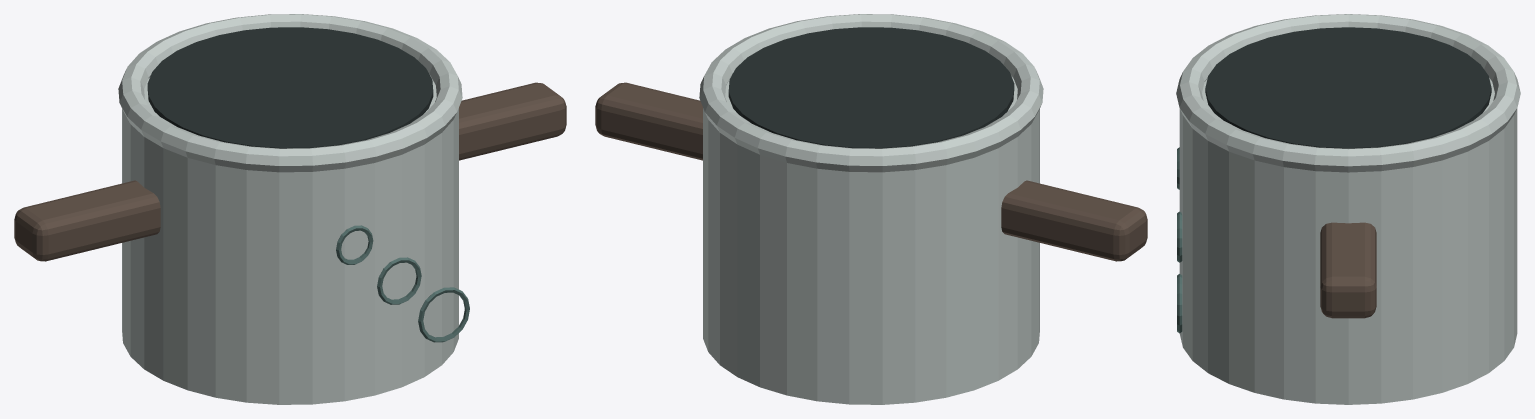
The model's file is pot-clean-v1-B_Ai-4L6.glb.
3 views of the same model, side by side, from view 1: azimuth 30°, elevation 25°; view 2: azimuth 150°, elevation 25°; view 3: azimuth 270°, elevation 25° (orthographic).
Visible parts, largest first — view 1: Pot body, Visible dark interior, Open rim, Side handle, Side handle.001, Round scratch 3, Round scratch 2, Round scratch 1; view 2: Pot body, Visible dark interior, Open rim, Side handle, Side handle.001; view 3: Pot body, Visible dark interior, Open rim, Side handle.001, Round scratch 3.
Boxes of the visible parts, x1,y1,x2,y2 form: Pot body: [122, 76, 458, 404]; Visible dark interior: [147, 27, 433, 148]; Open rim: [118, 14, 462, 172]; Side handle: [14, 180, 160, 261]; Side handle.001: [459, 82, 566, 160]; Round scratch 3: [418, 287, 469, 342]; Round scratch 2: [377, 257, 421, 304]; Round scratch 1: [336, 225, 373, 264]; Pot body: [703, 76, 1039, 404]; Visible dark interior: [728, 27, 1014, 148]; Open rim: [699, 14, 1043, 172]; Side handle: [1001, 180, 1147, 261]; Side handle.001: [595, 82, 702, 160]; Pot body: [1179, 78, 1517, 404]; Visible dark interior: [1205, 27, 1491, 148]; Open rim: [1176, 14, 1520, 172]; Side handle.001: [1320, 222, 1376, 318]; Round scratch 3: [1177, 273, 1182, 333].
Size of the model in its own units: 2.62 by 1.18 by 1.47.
